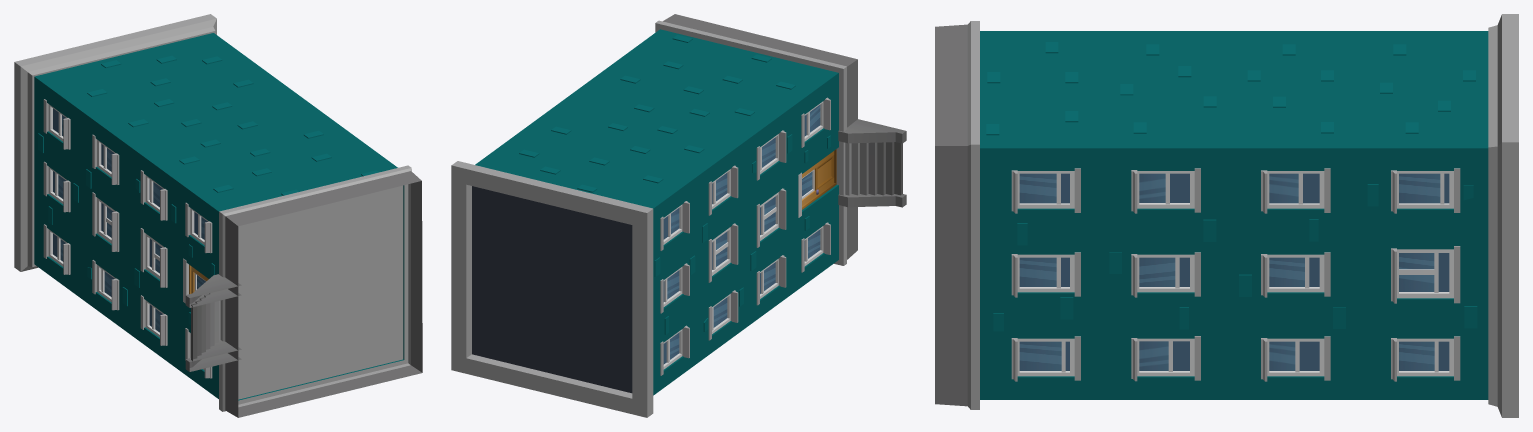
Rendered from Building_2_2_H.glb.
The picture shows the model from 3 angles, left to right: view 1: azimuth 30°, elevation 25°; view 2: azimuth 150°, elevation 25°; view 3: azimuth 270°, elevation 25°; orthographic projection. The views are drawn at different scales.
Parts seen in each view (by area): view 1: Building_2_2_H; view 2: Building_2_2_H; view 3: Building_2_2_H.
Boxes of the visible parts, <box> form: Building_2_2_H: <box>14,14,422,417</box>; Building_2_2_H: <box>451,14,906,417</box>; Building_2_2_H: <box>935,14,1518,417</box>.
Bounding box in the file's own units: 7.54 × 6.2 × 11.91.
3 materials, 3 textured.
